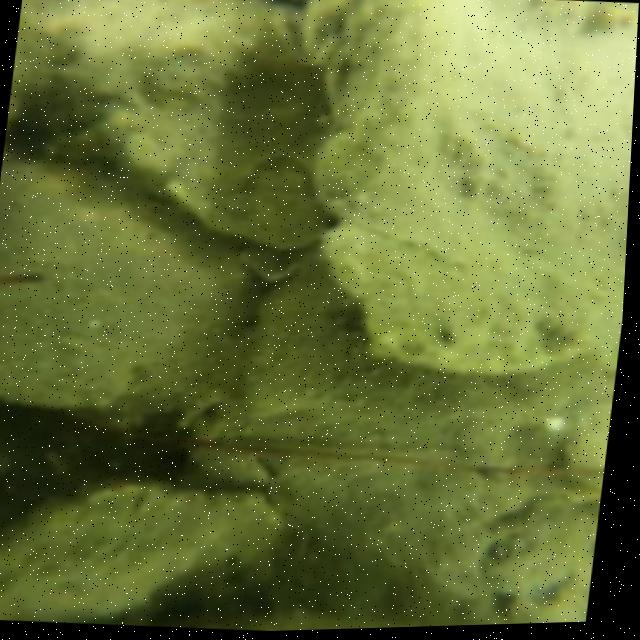Oyster-Indeterminate: (305, 0, 639, 368), (8, 0, 318, 255), (0, 157, 251, 420), (0, 483, 281, 622)
